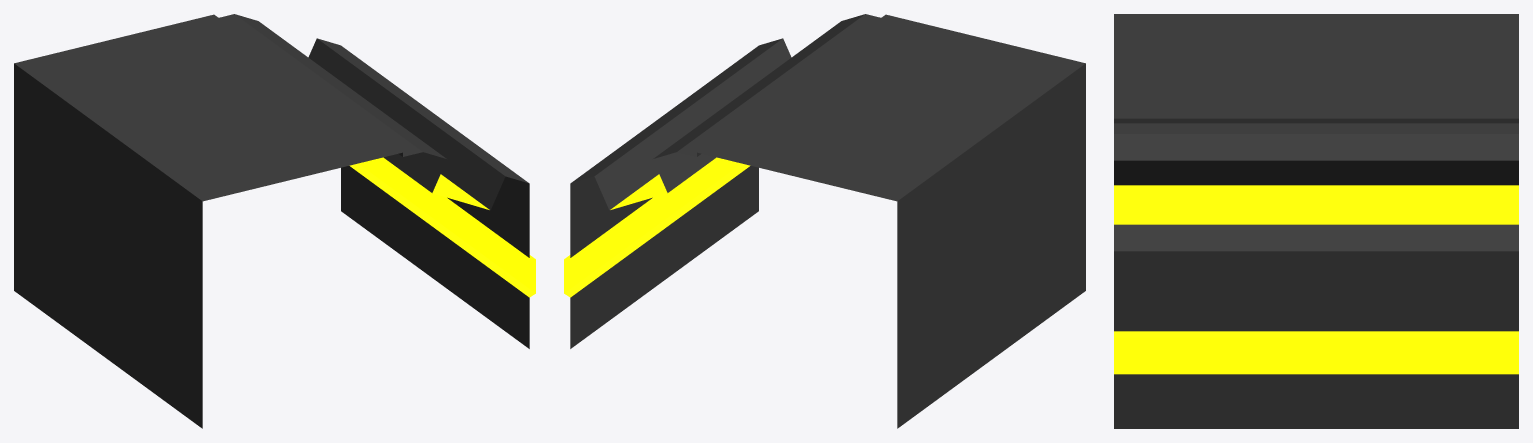
The model's file is Wall_Outer.fbx.
3 views of the same model, side by side, from view 1: azimuth 30°, elevation 25°; view 2: azimuth 150°, elevation 25°; view 3: azimuth 270°, elevation 25° (orthographic). The views are drawn at different scales.
Visible parts, largest first — view 1: Cube; view 2: Cube; view 3: Cube.
Part boxes in pixels (x1=…): Cube: x1=14, y1=14, x2=535, y2=428; Cube: x1=564, y1=14, x2=1085, y2=428; Cube: x1=1114, y1=14, x2=1518, y2=428.
Bounding box in the file's own units: 204 × 133 × 200.
